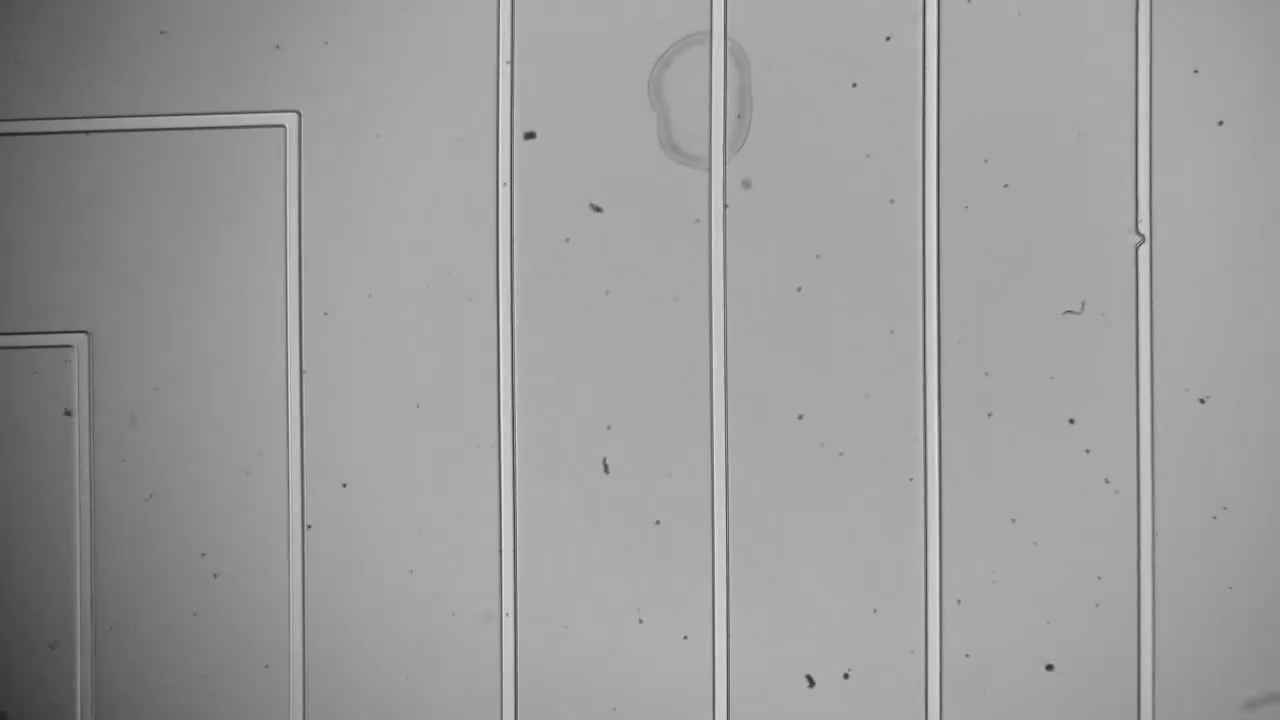edge_bite: (1126, 228, 1163, 255)
